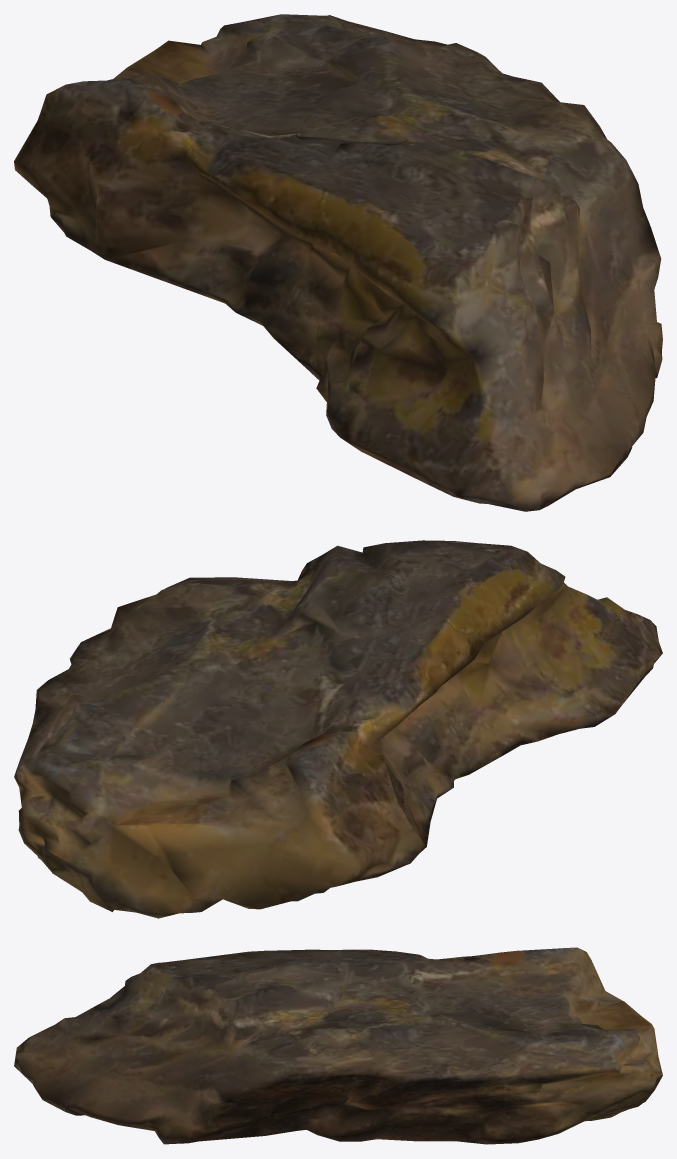
The model's file is rock-09.glb.
The picture shows the model from 3 angles, top to bottom: view 1: azimuth 30°, elevation 25°; view 2: azimuth 150°, elevation 25°; view 3: azimuth 270°, elevation 25°; orthographic projection. The views are drawn at different scales.
Visible parts, largest first — view 1: rock_09_LOD0; view 2: rock_09_LOD0; view 3: rock_09_LOD0.
Boxes of the visible parts, x1,y1,x2,y2 form: rock_09_LOD0: (14, 14, 662, 511); rock_09_LOD0: (14, 540, 662, 918); rock_09_LOD0: (14, 947, 662, 1144).
Bounding box in the file's own units: 0.0739 × 0.0326 × 0.1446.
Materials: 1 (1 with a texture image).
